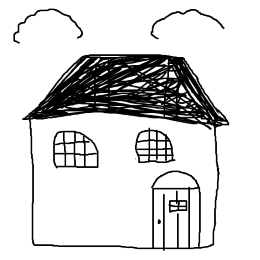closed_window: (50, 128, 102, 174), (131, 126, 179, 167)
clouds: (149, 6, 224, 44), (11, 7, 84, 45)
door: (146, 164, 205, 254)
shaded_roof: (21, 53, 230, 129)
wall: (26, 108, 223, 249)
